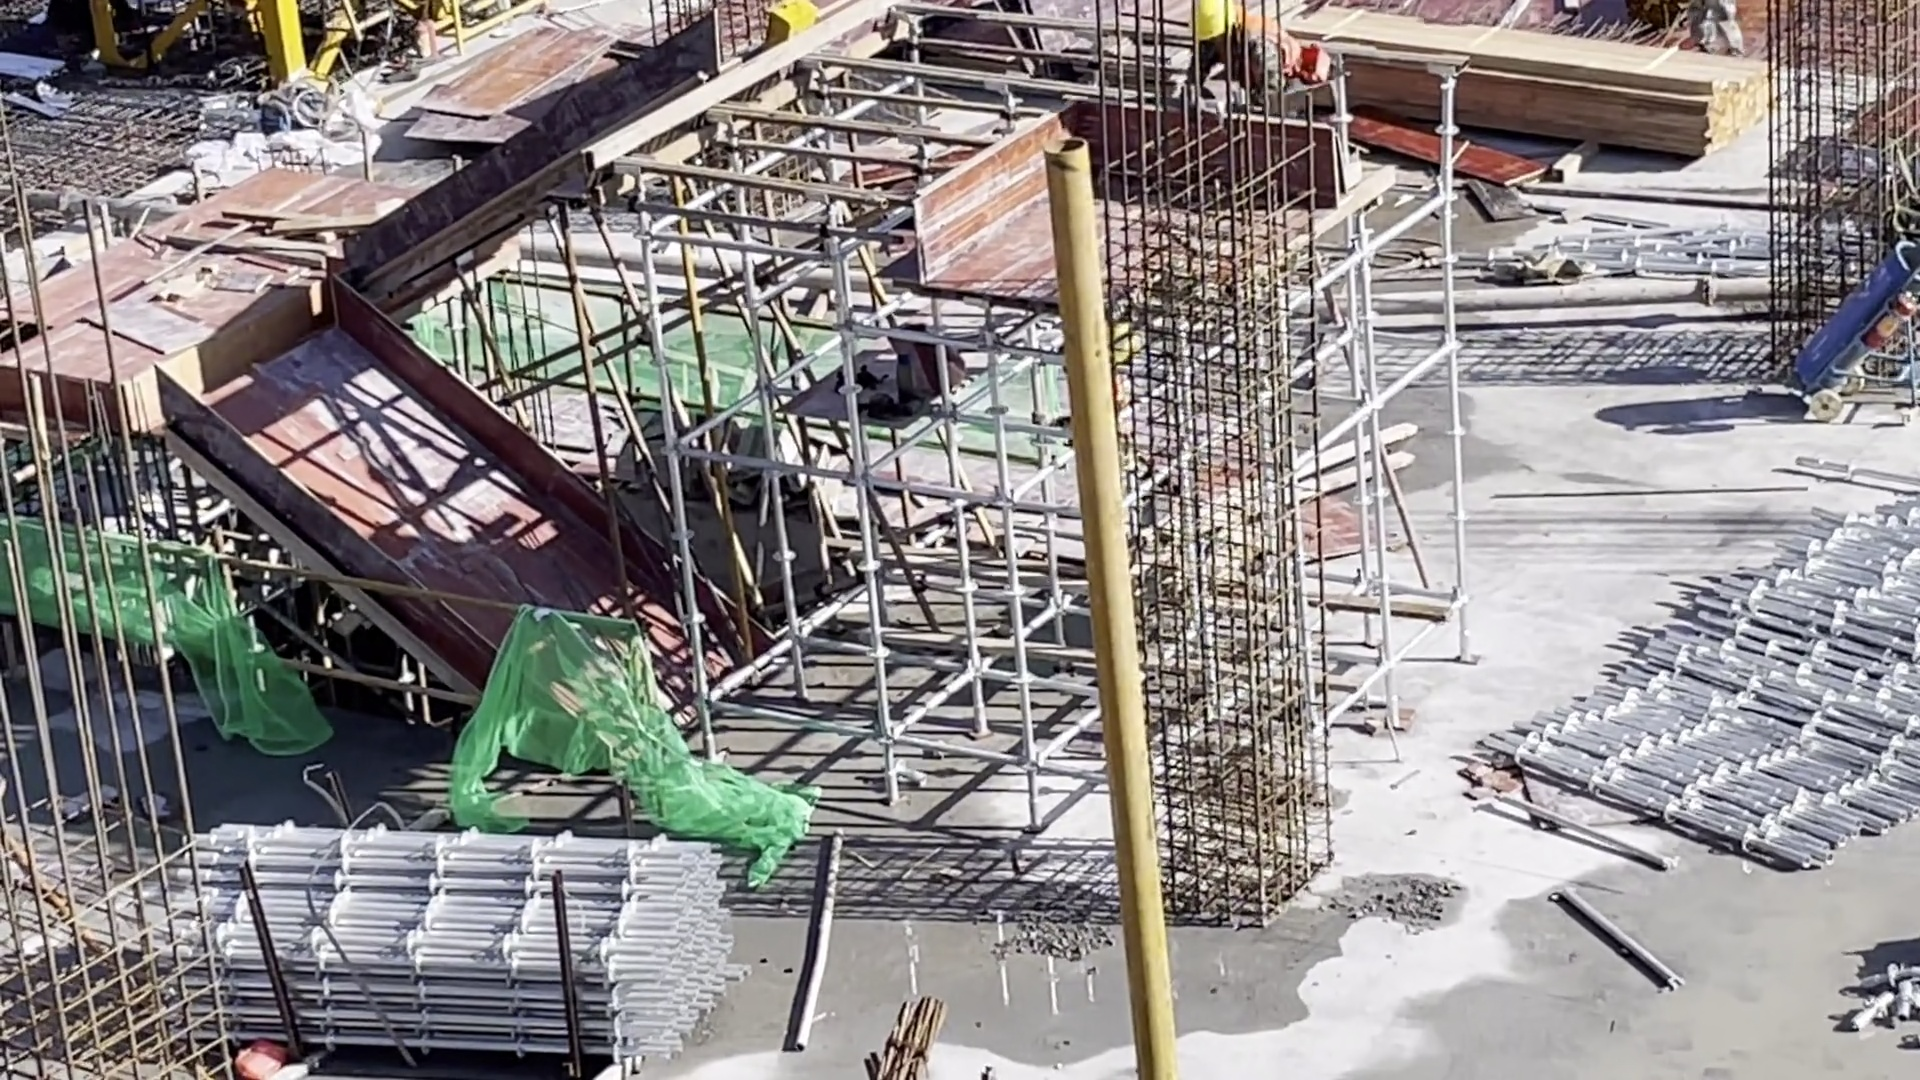helmet: (1196, 3, 1237, 43)
person: (1182, 5, 1314, 111), (1688, 1, 1743, 57)
scaffold: (1474, 489, 1920, 874), (155, 820, 758, 1055)
vest: (1246, 14, 1299, 87)
wood: (1304, 6, 1770, 153)
